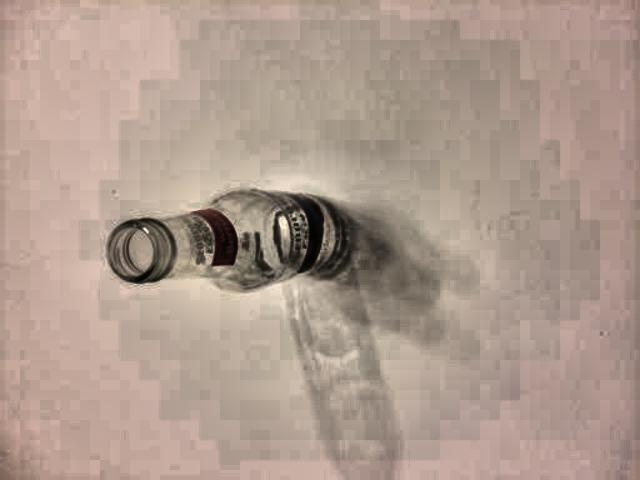Bottles: (88, 161, 389, 330)
